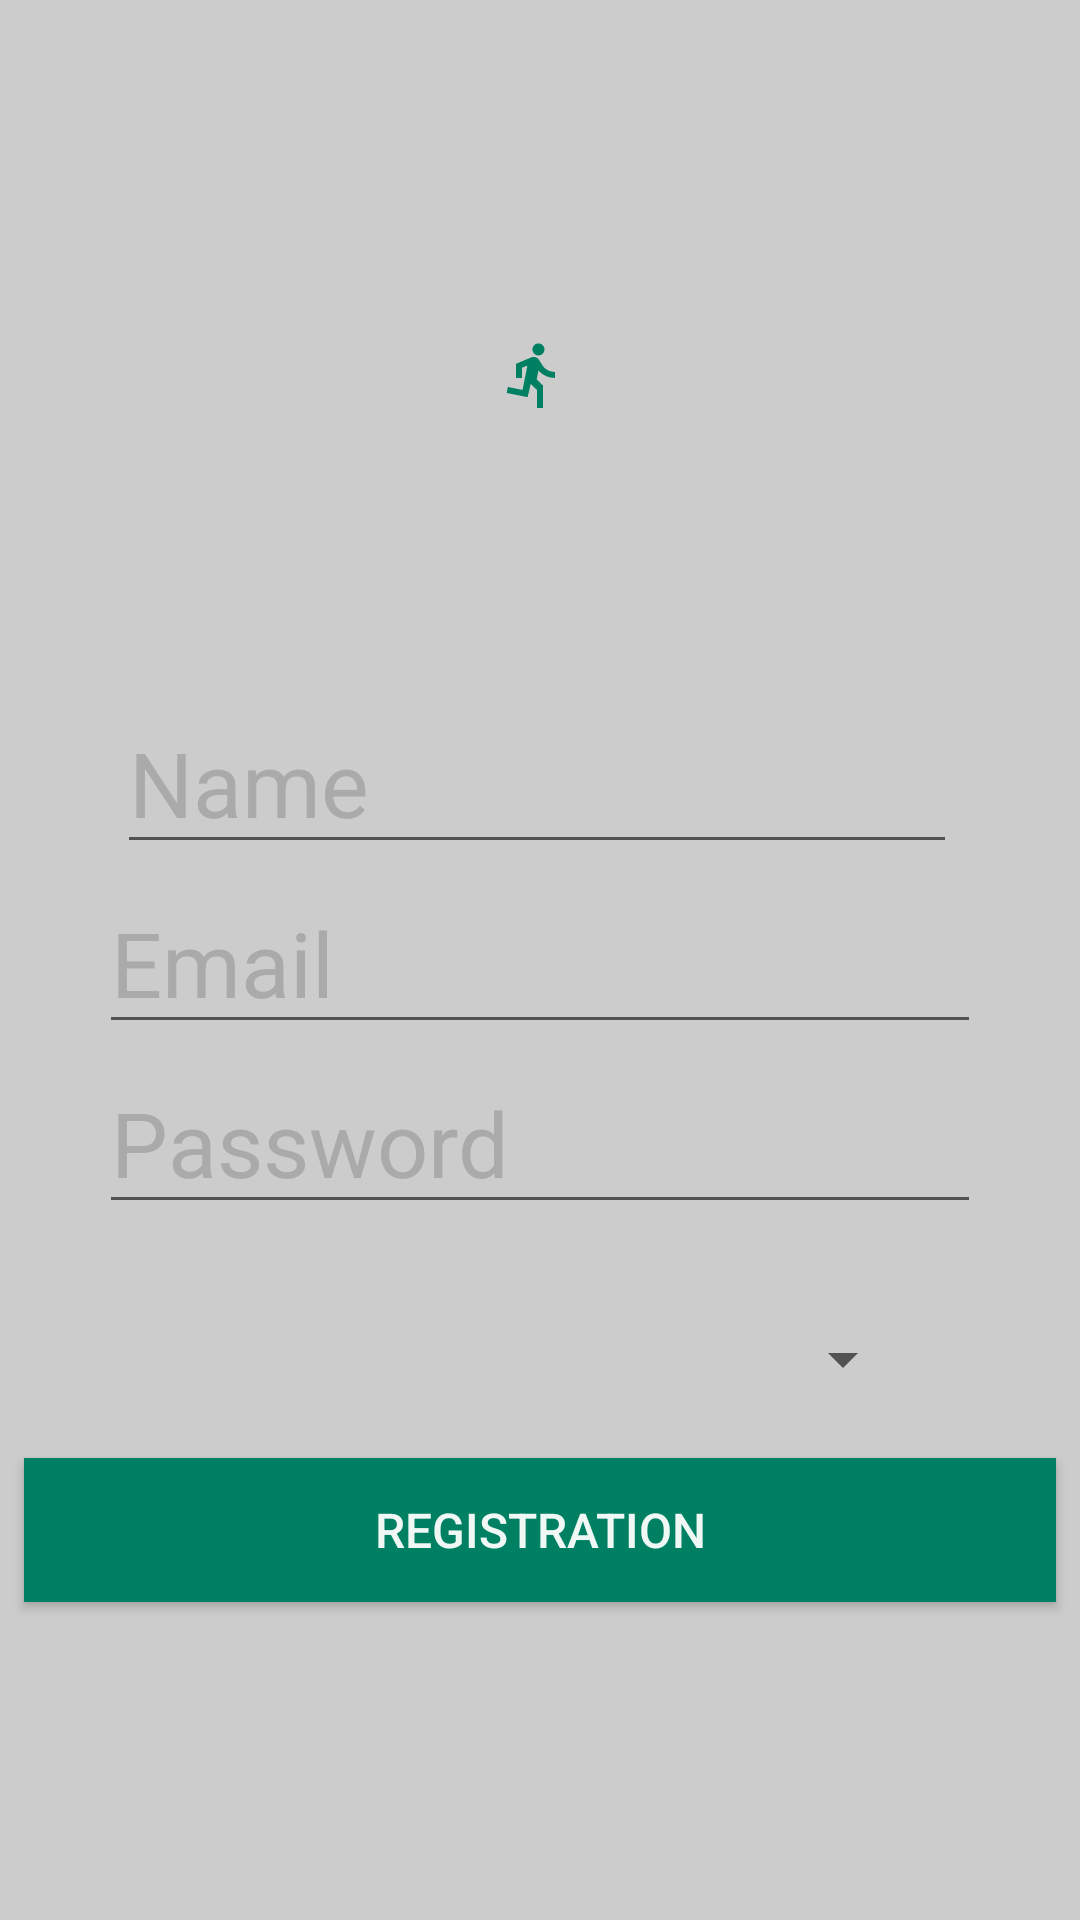

Point at icon controls on the screen. Image size 1080px x 1920px, points as point (x, y).
directions run: point (530, 375)
